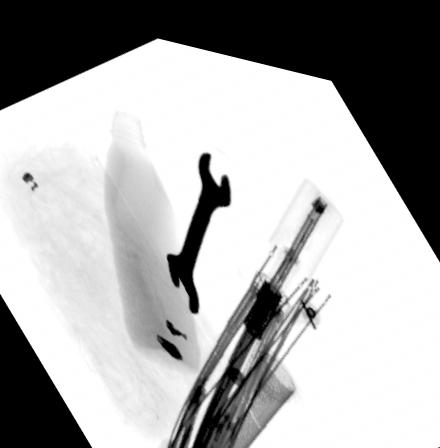Wrench: (163, 136, 232, 309)
